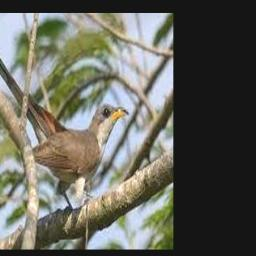Cuckoo: (0, 44, 130, 212)
